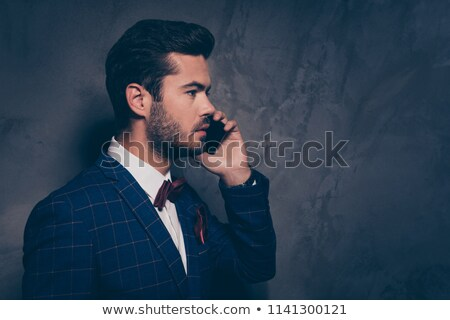phone: (197, 100, 232, 154)
talk: (175, 78, 244, 175)
